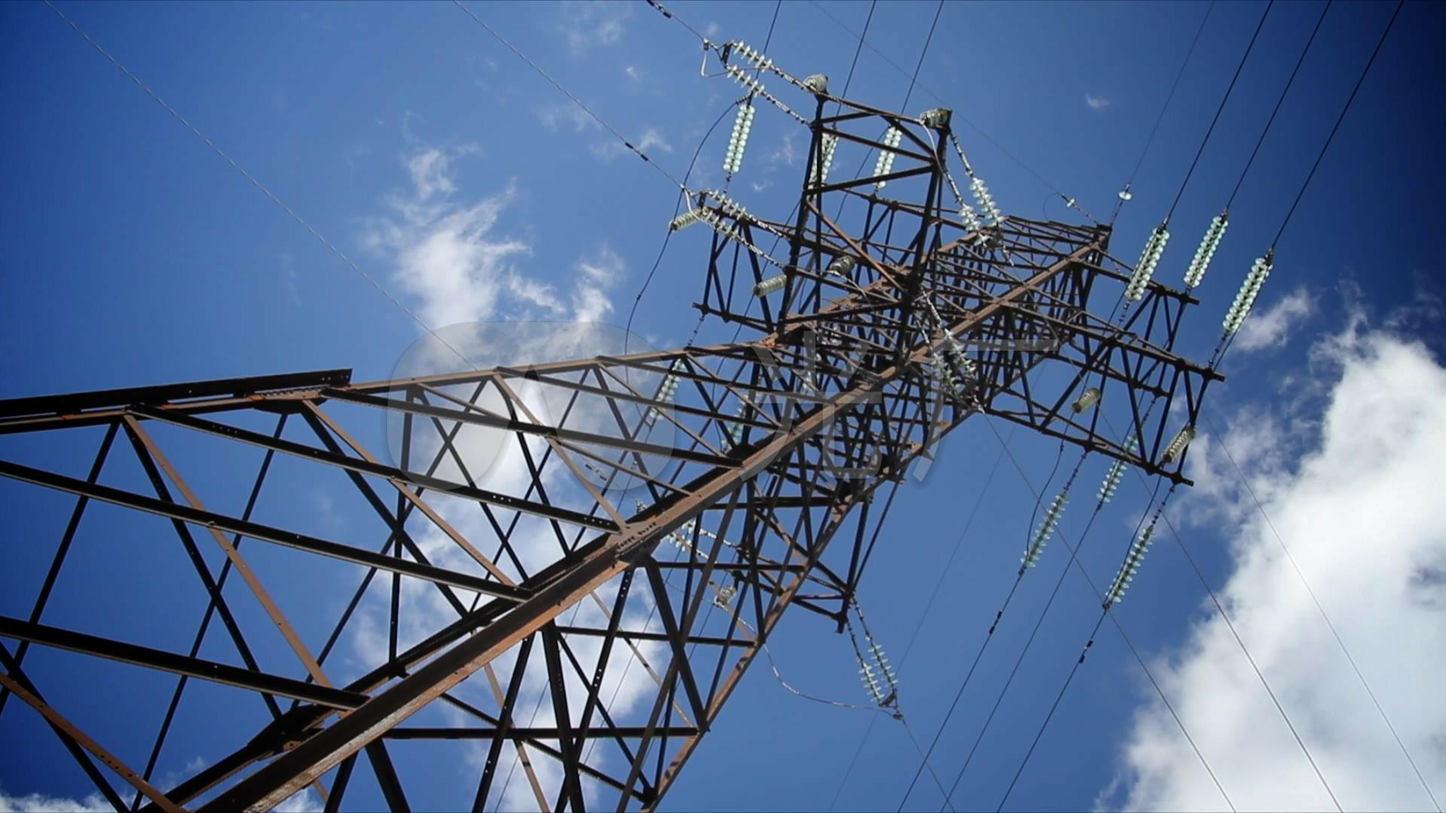power_tower: (0, 28, 1277, 813)
